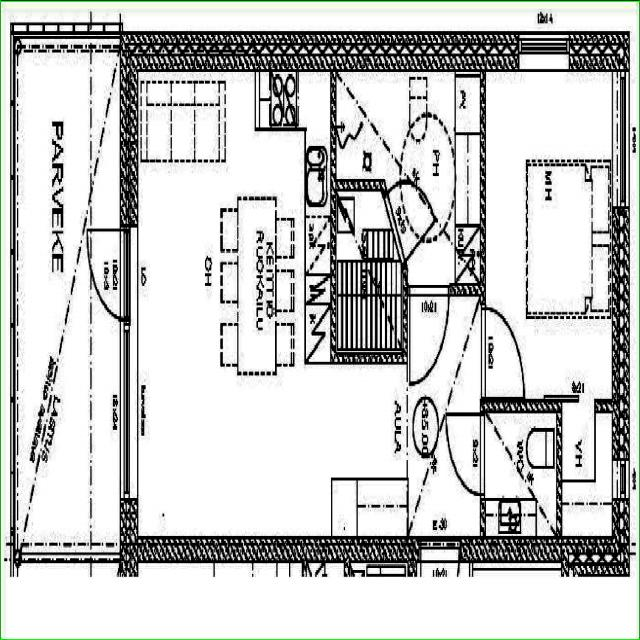door: (383, 147, 435, 262), (80, 229, 138, 320), (410, 283, 449, 386), (480, 307, 524, 396), (444, 413, 486, 494)
